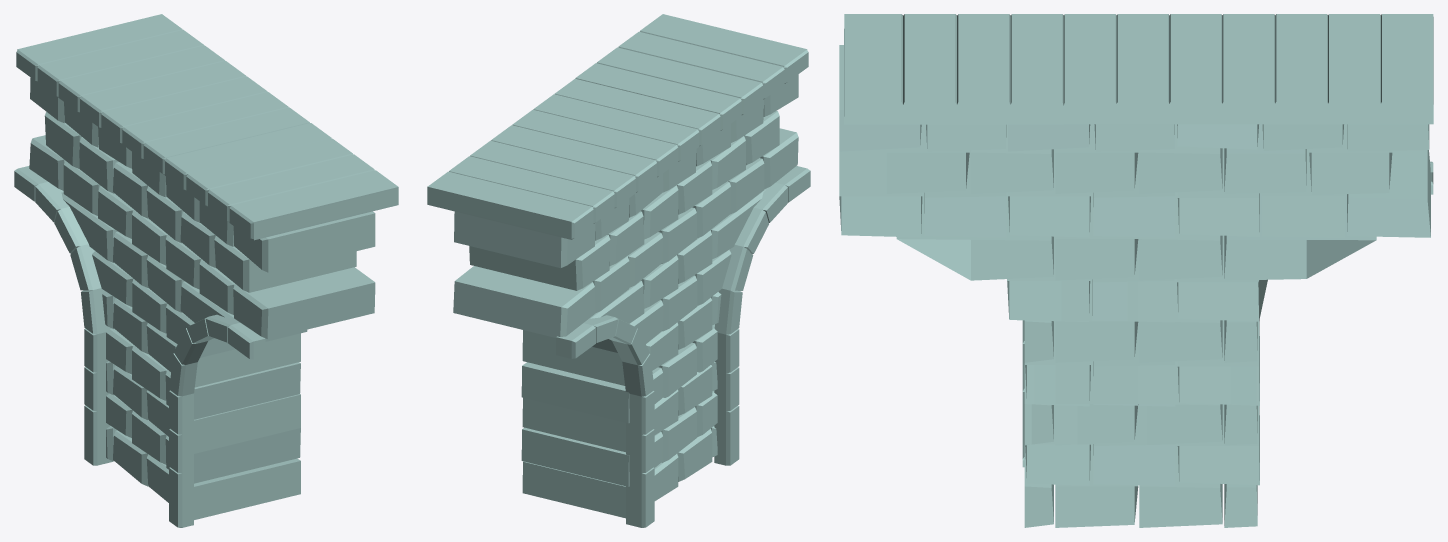
The model's file is PuenteParte1.fbx.
3 renders of one model, left to right at view 1: azimuth 30°, elevation 25°; view 2: azimuth 150°, elevation 25°; view 3: azimuth 270°, elevation 25°, orthographic. The views are drawn at different scales.
Visible parts, largest first — view 1: polySurface3391; view 2: polySurface3391; view 3: polySurface3391.
Part boxes in pixels (left/top/right/bottom): polySurface3391: left=14, top=14, right=398, bottom=527; polySurface3391: left=427, top=14, right=810, bottom=527; polySurface3391: left=839, top=14, right=1433, bottom=527.
Bounding box in the file's own units: 1.32 × 3.04 × 3.67.
